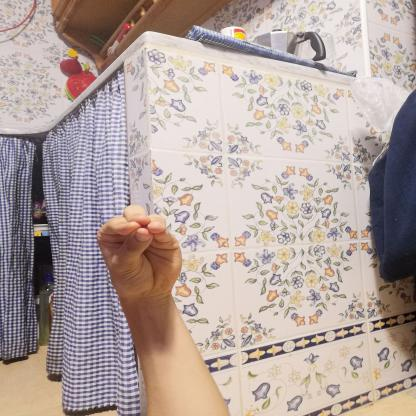HA: (85, 194, 195, 308)
